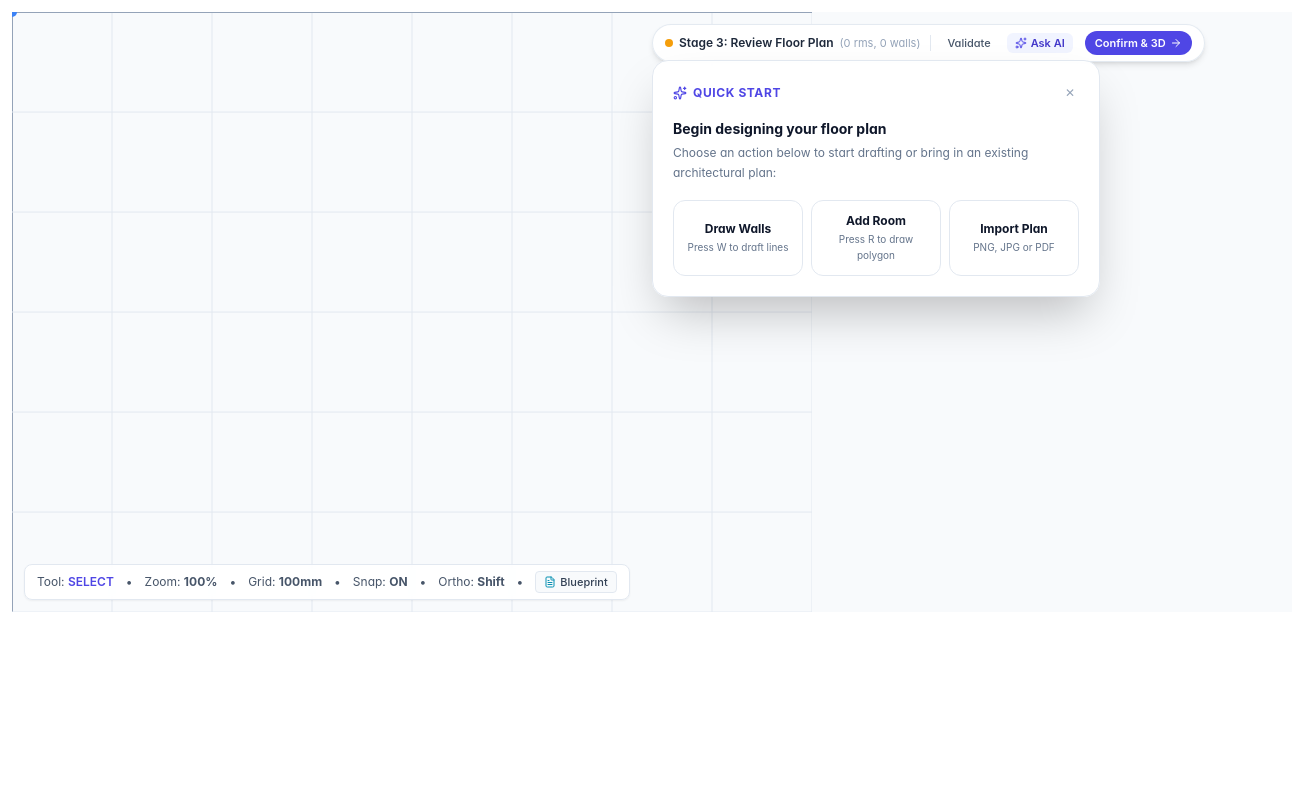
Test: Post-Audit Remediation Verification Suite › 3. FIX-01: Beginner Empty Canvas Onboarding Guide › activates wall tool and dismisses guide when "Draw Walls" is clicked
Click the button with test id "onboarding-draw-wall-btn": x=738, y=238 x1=673 y1=200 x2=803 y2=276
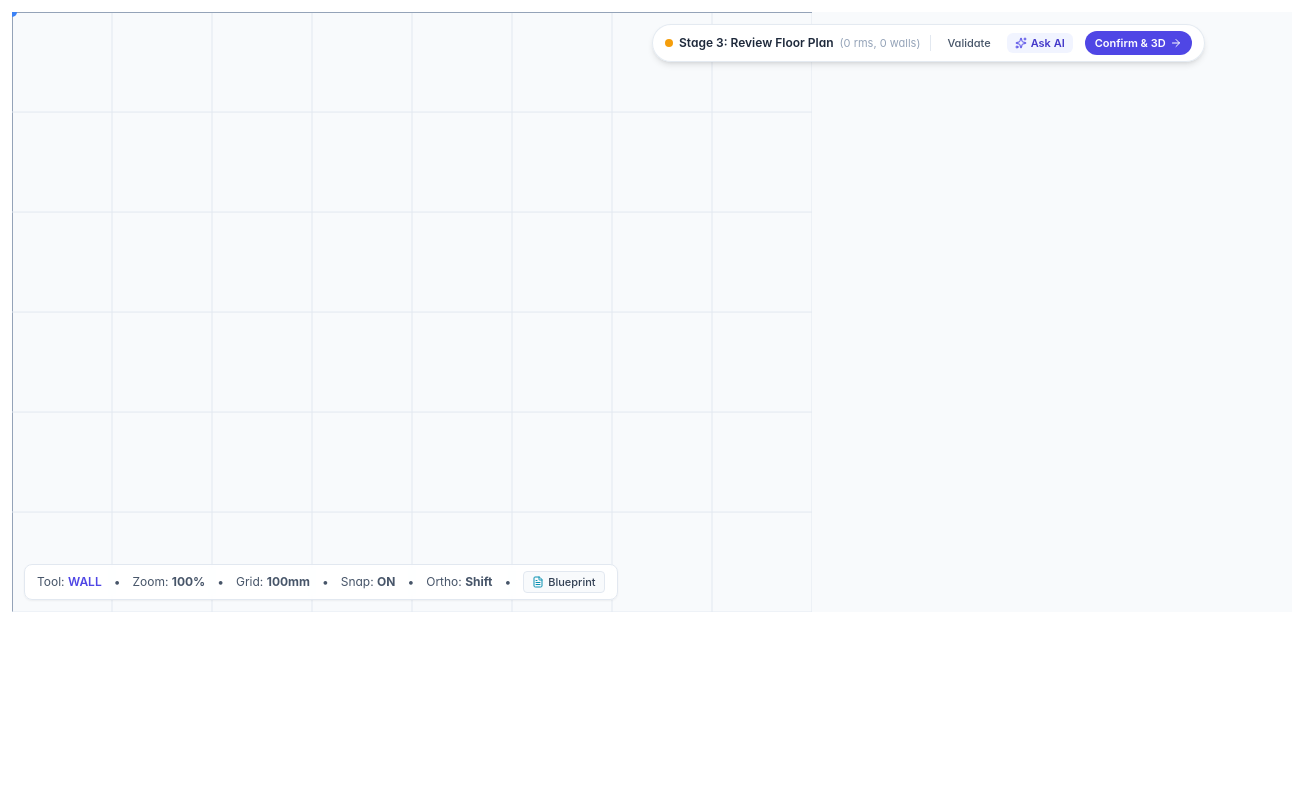
Now the element with test id "empty-canvas-onboarding-guide" is gone
